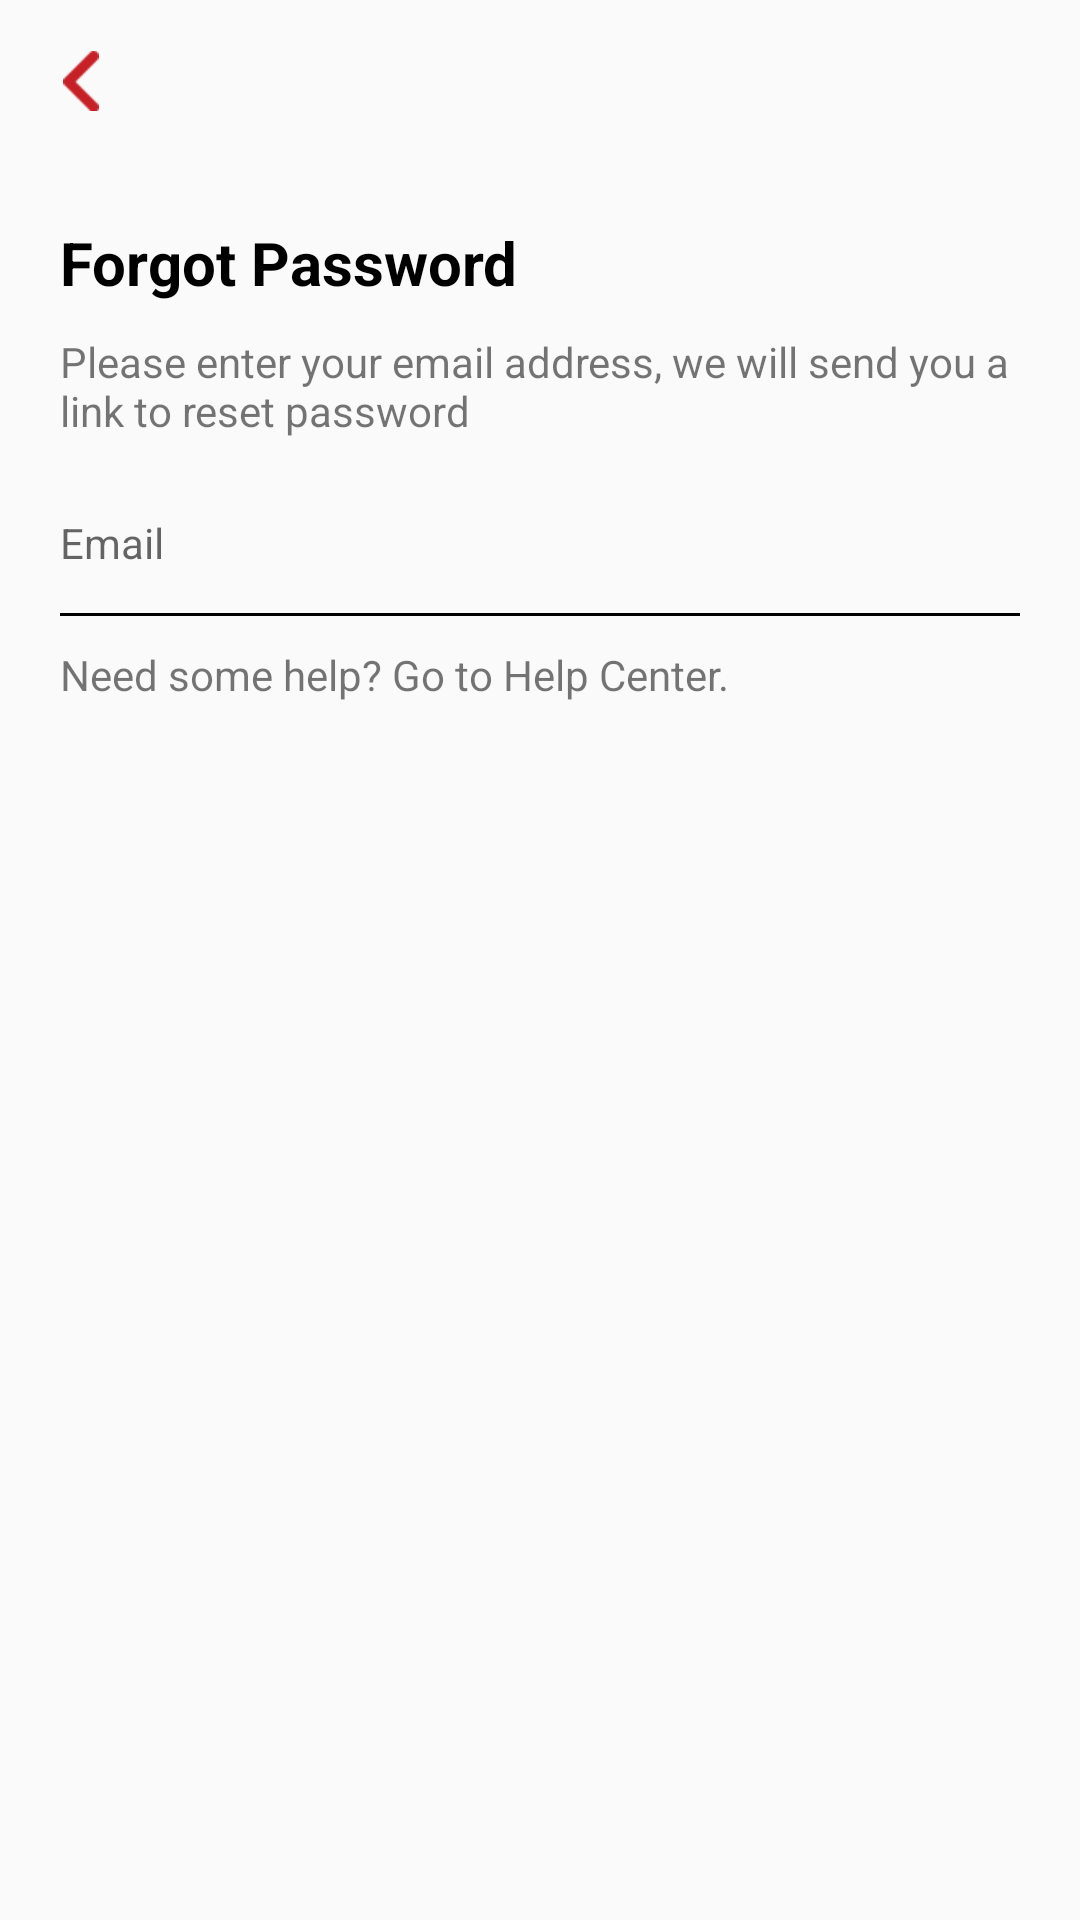

Icons on this 1080×1920 Android screen, each with the point to tap as (x,y):
back: (81,81)
